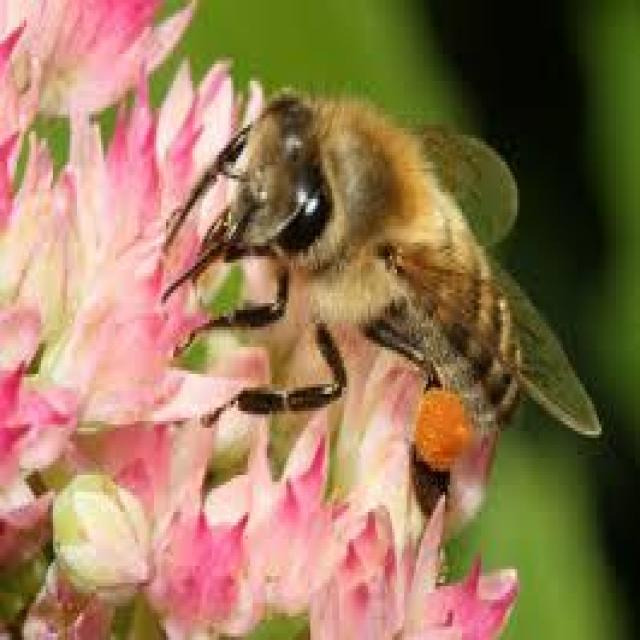Bees: (160, 64, 603, 478)
